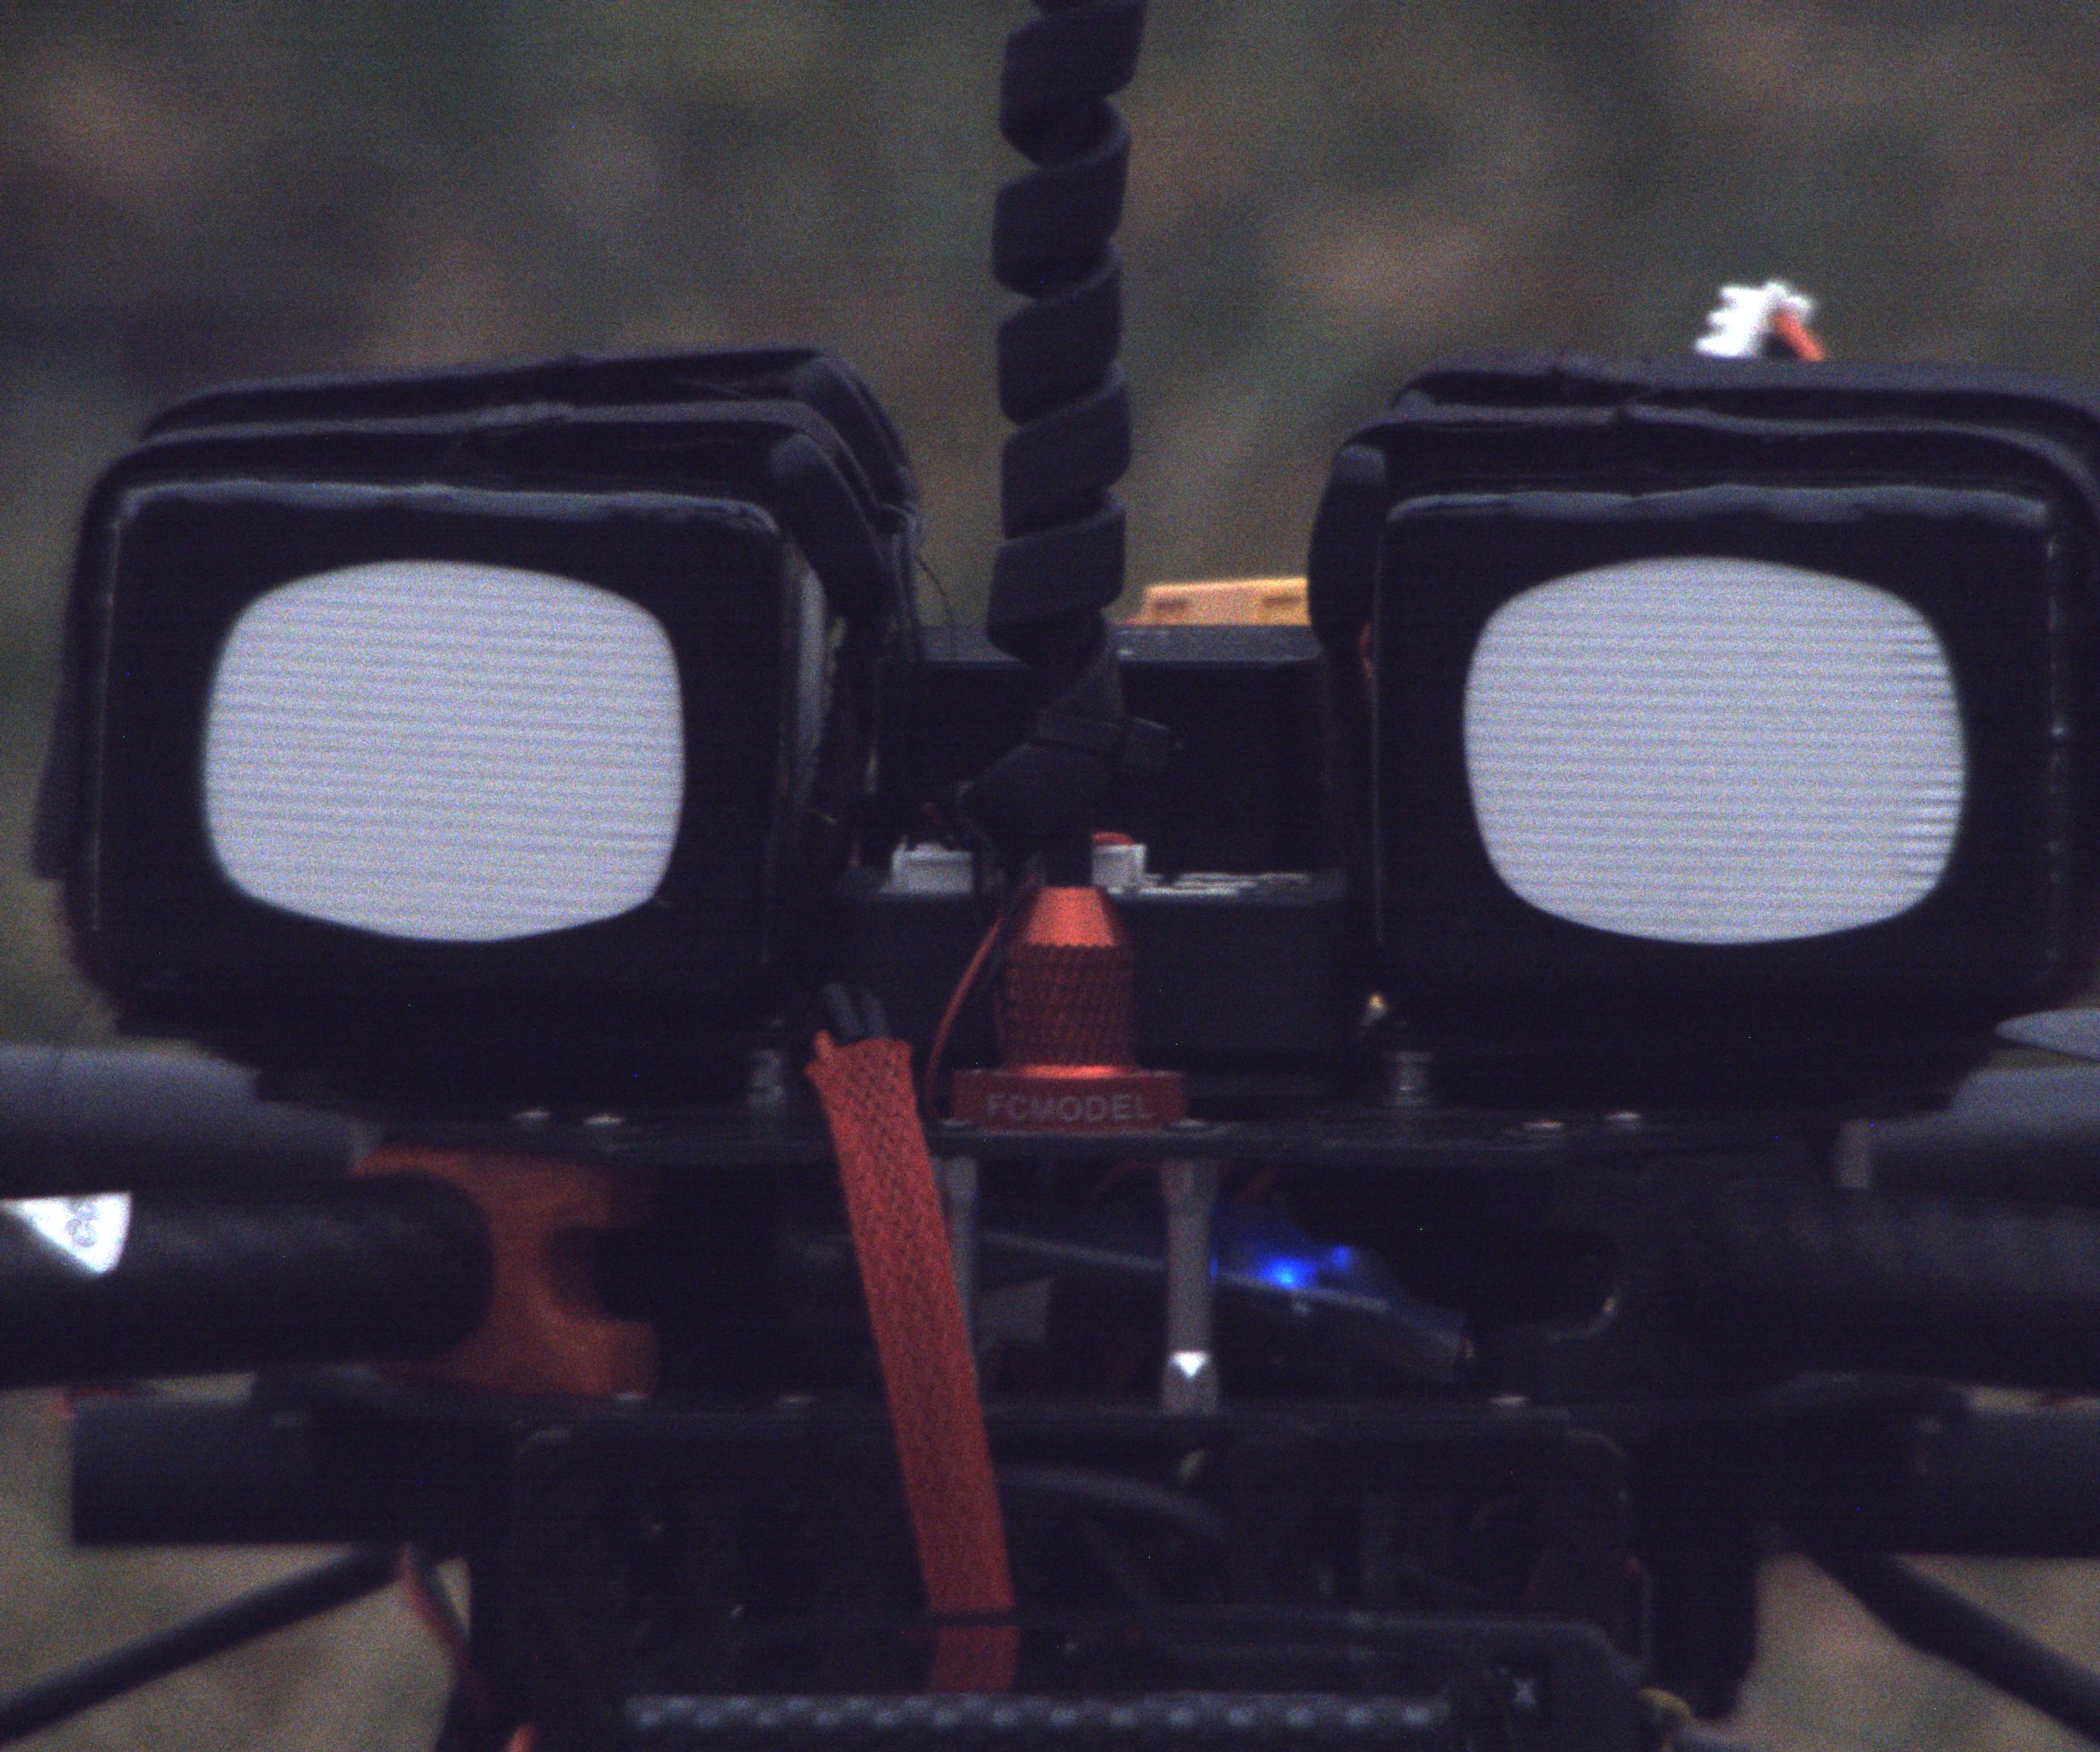Drohne: (2, 2, 2100, 1747)
